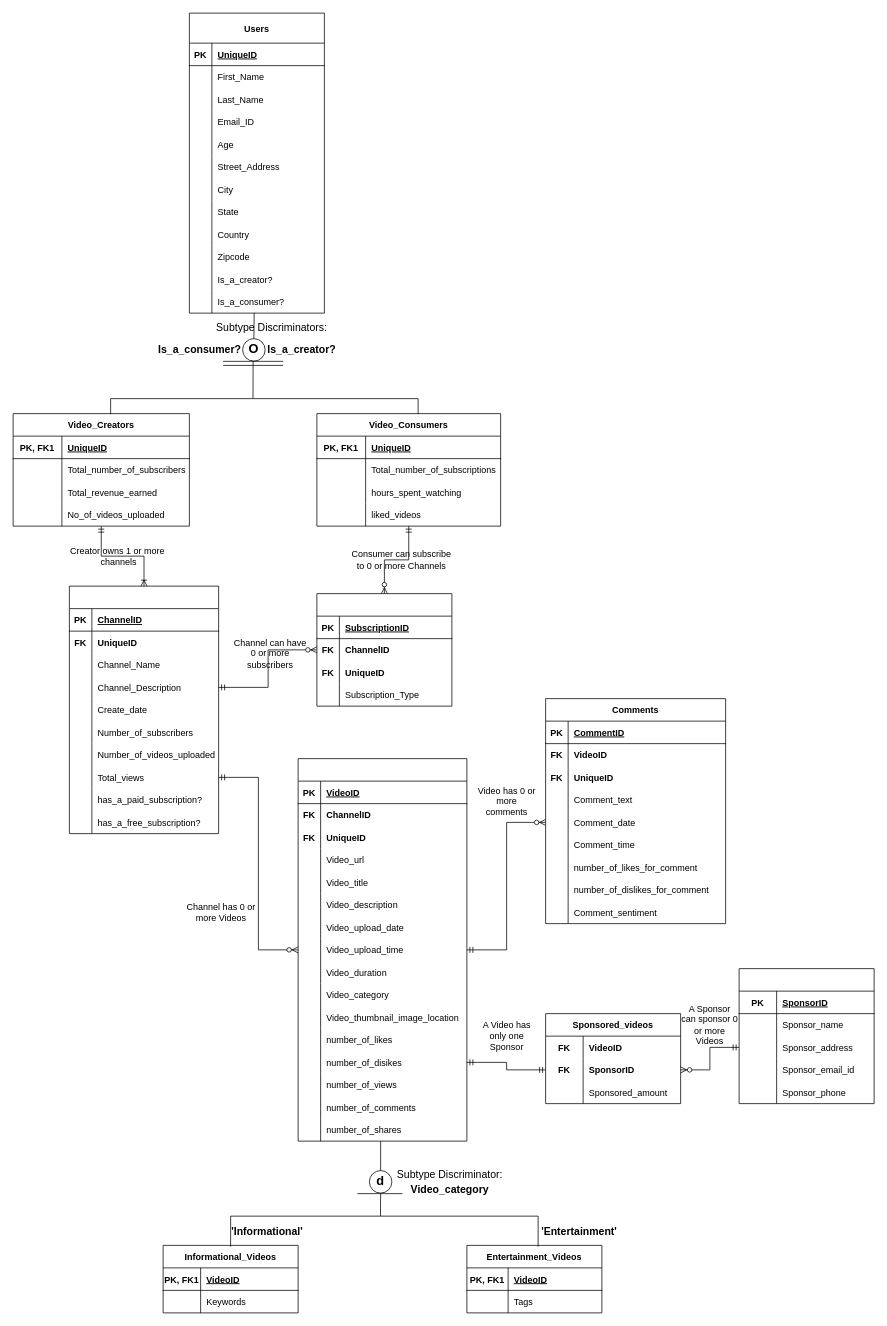
This 887x1326 diagram has some shape labels left out. Here are the shapes that lost their labels. From the top down, the box of each, then its label:
(316, 593, 452, 706): Subscriptions
(69, 585, 219, 834): Channels
(297, 758, 467, 1141): Videos
(738, 968, 874, 1104): Sponsors
